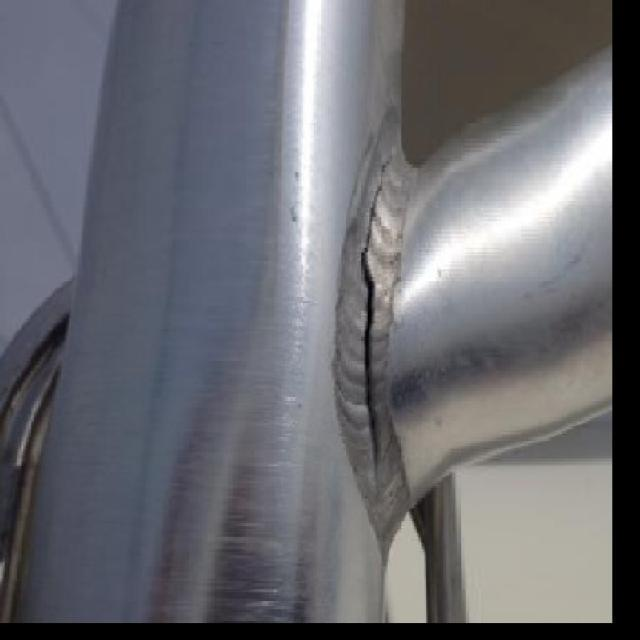crack: (360, 254, 380, 472), (365, 148, 390, 248)
